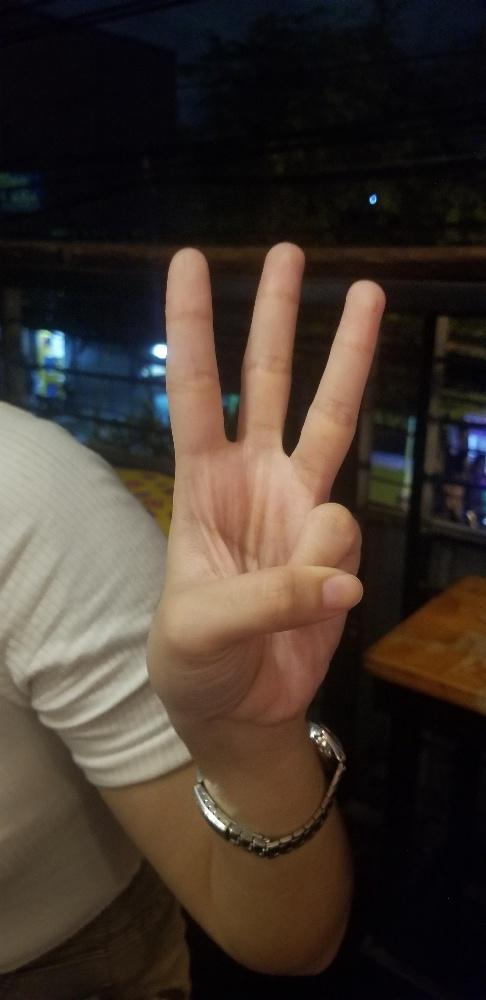w: (148, 241, 382, 713)
